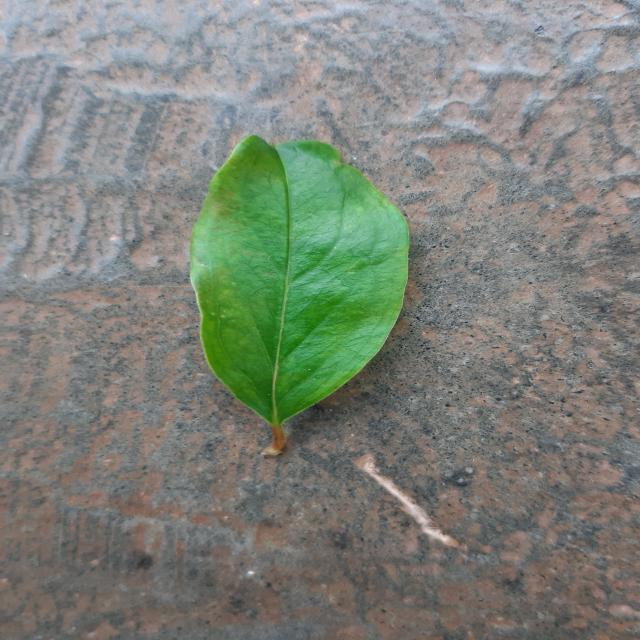pomgranate: (191, 135, 409, 455)
